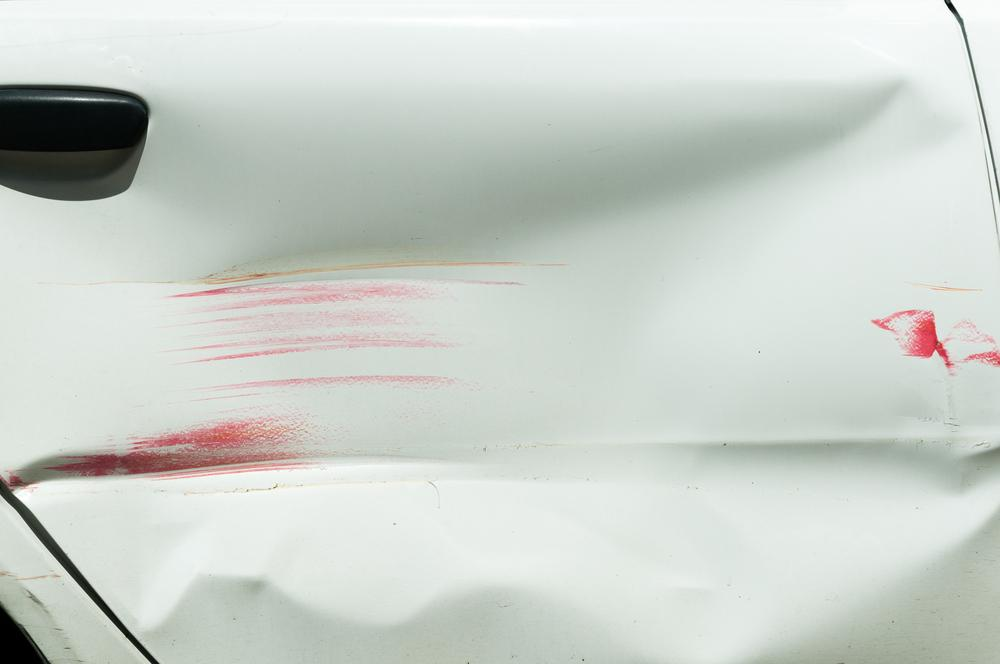dent: (29, 79, 1000, 657)
